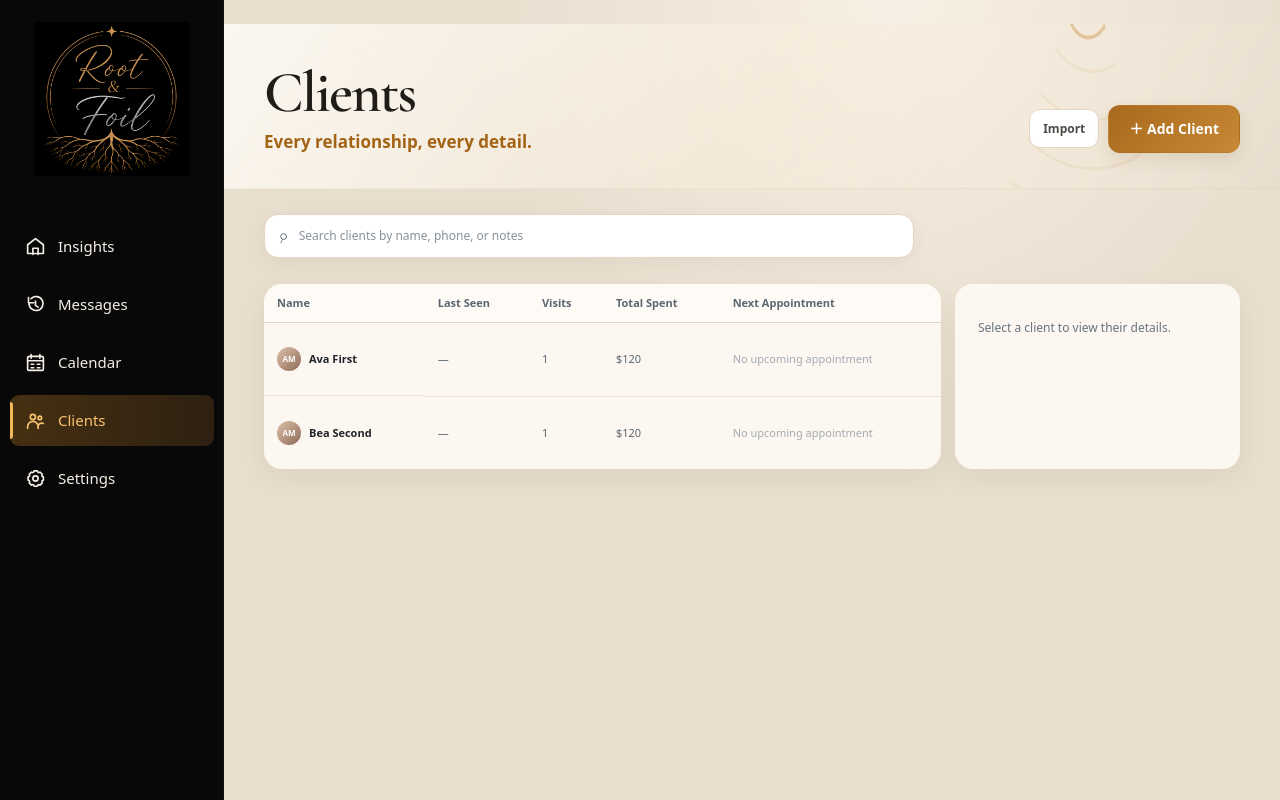
Test case: ClientsScreenClient › keeps the most recently selected client when detail responses race
Step 1. Click the button "AM Ava First" → {"x": 317, "y": 359}, box left=277, top=347, right=357, bottom=371
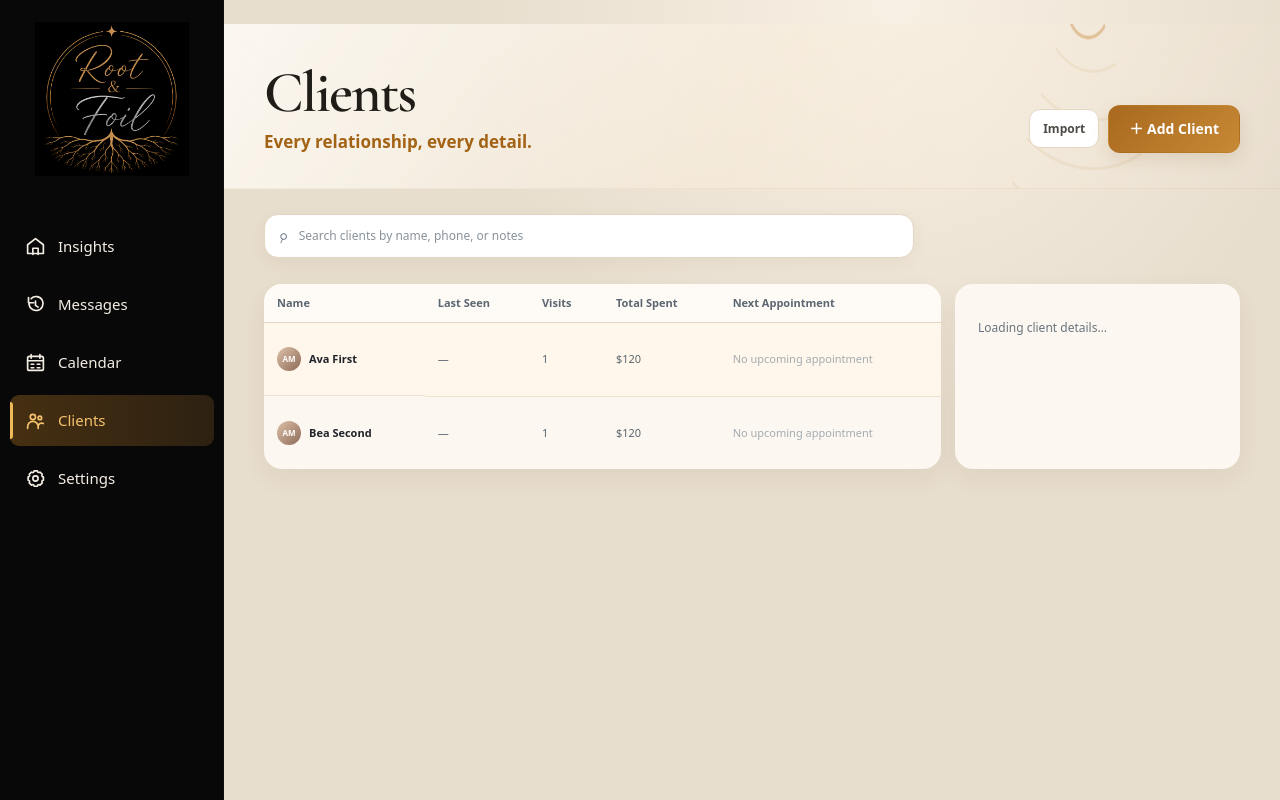
Step 2. Click the button "AM Bea Second" → {"x": 324, "y": 433}, box left=277, top=421, right=372, bottom=445
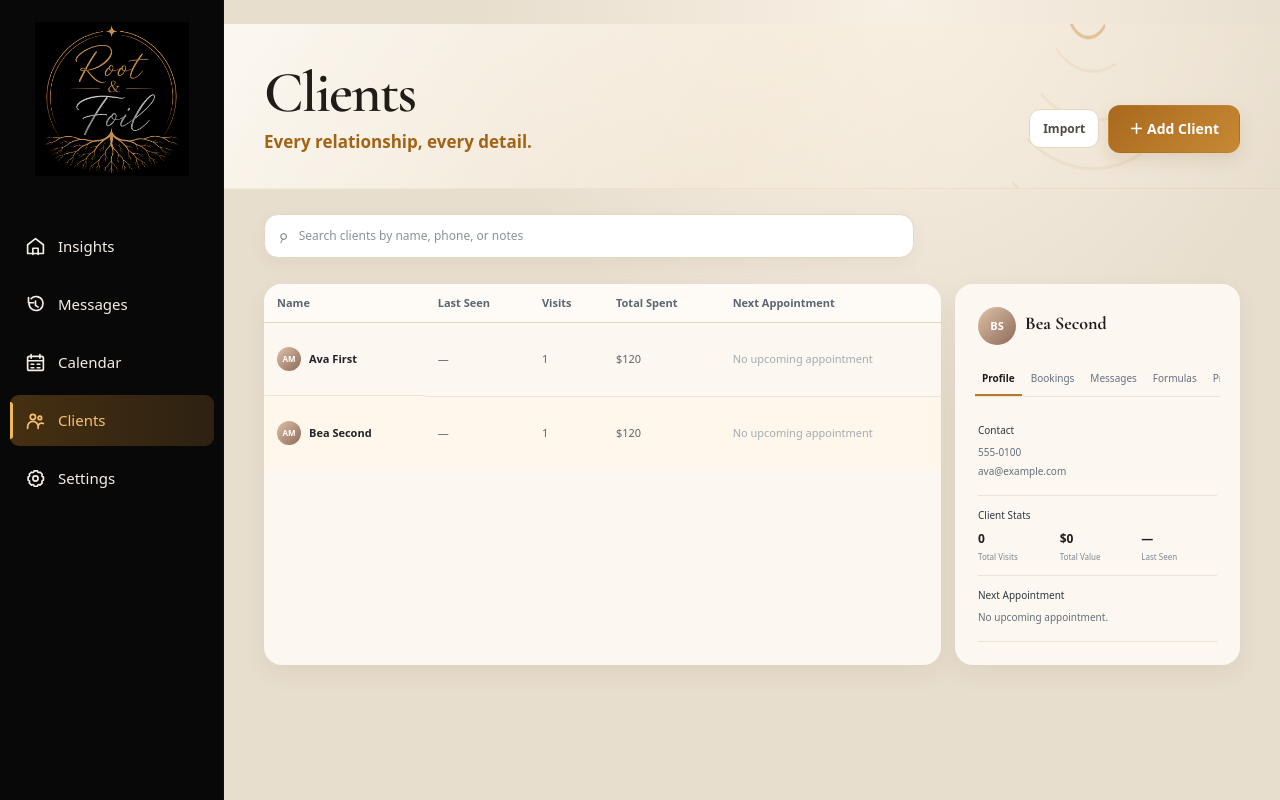
Check: the heading "Bea Second" is shown, box left=1025, top=310, right=1107, bottom=337
